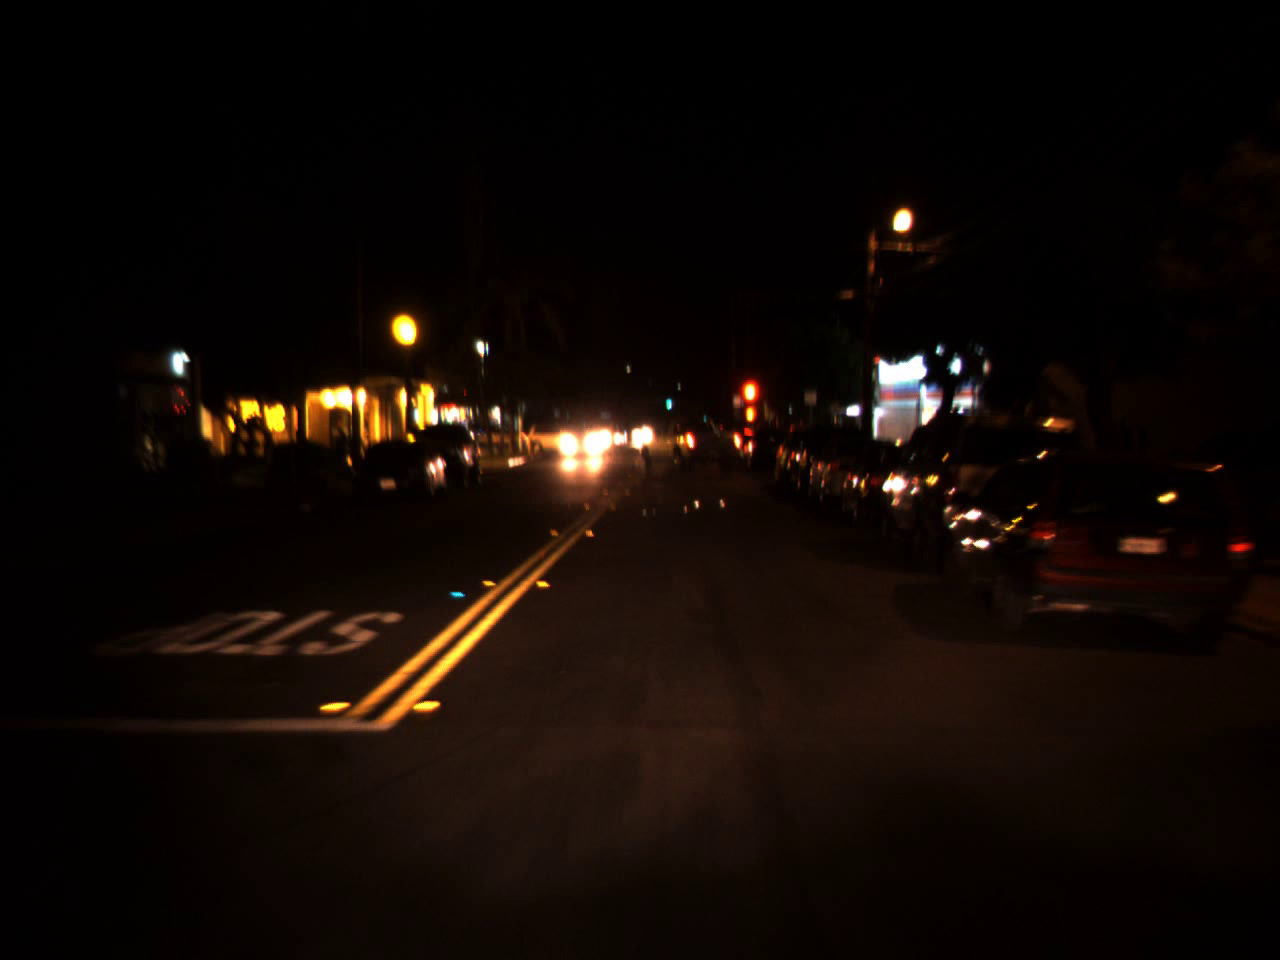go: (664, 391, 673, 409)
stop: (738, 375, 762, 437)
